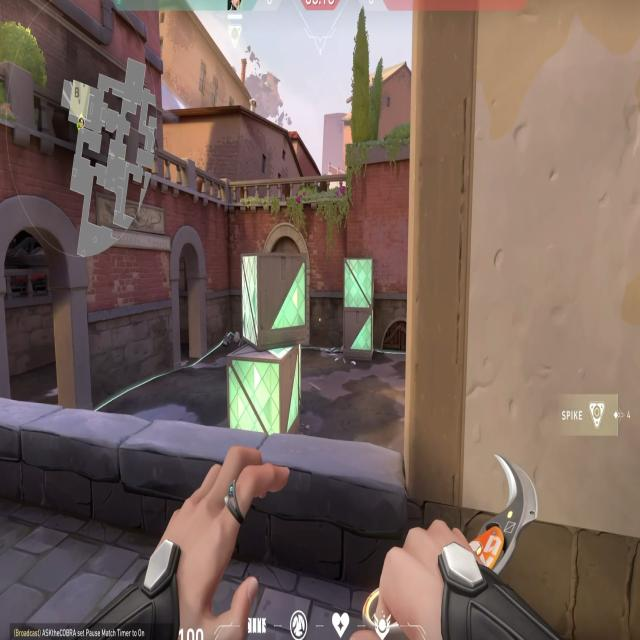B_Boathouse: (0, 183, 98, 413), (166, 220, 212, 371)
B_Site_Box: (231, 250, 309, 434)
